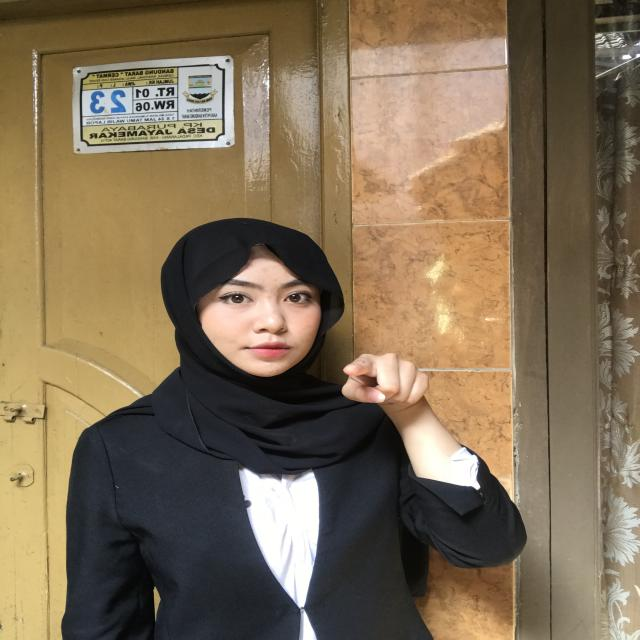kamu: (306, 344, 458, 446)
